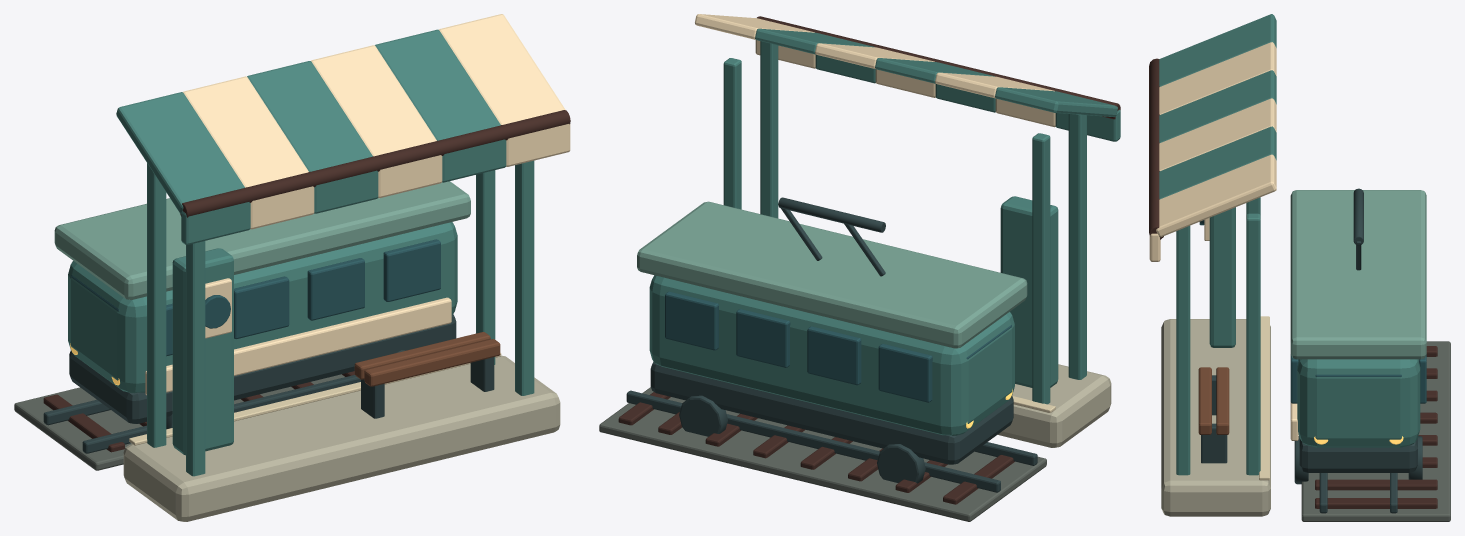
Rendered from tram.glb.
3 views of the same model, side by side, from view 1: azimuth 30°, elevation 25°; view 2: azimuth 150°, elevation 25°; view 3: azimuth 270°, elevation 25° (orthographic). The views are drawn at different scales.
Parts seen in each view (by area): view 1: tram · copper, tram · plaster_light, tram · stone_light, tram · copper_light, tram · metal, tram · window, tram · wood, tram · wood_light, tram · stone_dark, tram · road_line; view 2: tram · copper, tram · copper_light, tram · metal, tram · stone_dark, tram · window, tram · plaster_light, tram · wood, tram · stone_light; view 3: tram · copper, tram · copper_light, tram · stone_light, tram · plaster_light, tram · stone_dark, tram · metal, tram · wood, tram · wood_light, tram · road_line, tram · window.
Part boxes in pixels (box(x1,y1,x2,y2)): tram · copper: box(68, 29, 534, 476); tram · plaster_light: box(145, 14, 570, 395); tram · stone_light: box(123, 355, 560, 521); tram · copper_light: box(54, 181, 470, 299); tram · metal: box(43, 314, 494, 453); tram · window: box(71, 239, 440, 356); tram · wood: box(43, 110, 570, 452); tram · wood_light: box(354, 332, 500, 386); tram · stone_dark: box(14, 374, 344, 470); tram · road_line: box(129, 353, 501, 445); tram · copper: box(649, 28, 1120, 435); tram · copper_light: box(637, 201, 1027, 348); tram · metal: box(626, 197, 1037, 492); tram · stone_dark: box(599, 387, 1046, 521); tram · window: box(665, 291, 1011, 402); tram · plaster_light: box(695, 14, 1055, 127); tram · wood: box(618, 16, 1120, 504); tram · stone_light: box(997, 364, 1111, 447); tram · copper: box(1159, 14, 1420, 475); tram · copper_light: box(1290, 190, 1426, 359); tram · stone_light: box(1161, 319, 1270, 516); tram · plaster_light: box(1149, 42, 1298, 440); tram · stone_dark: box(1301, 341, 1450, 521); tram · metal: box(1201, 188, 1422, 513); tram · wood: box(1149, 58, 1437, 508); tram · wood_light: box(1198, 367, 1229, 434); tram · road_line: box(1259, 316, 1269, 480); tram · window: box(1199, 220, 1426, 403).
Bounding box in the file's own units: 0.94 × 0.8496 × 0.688.
